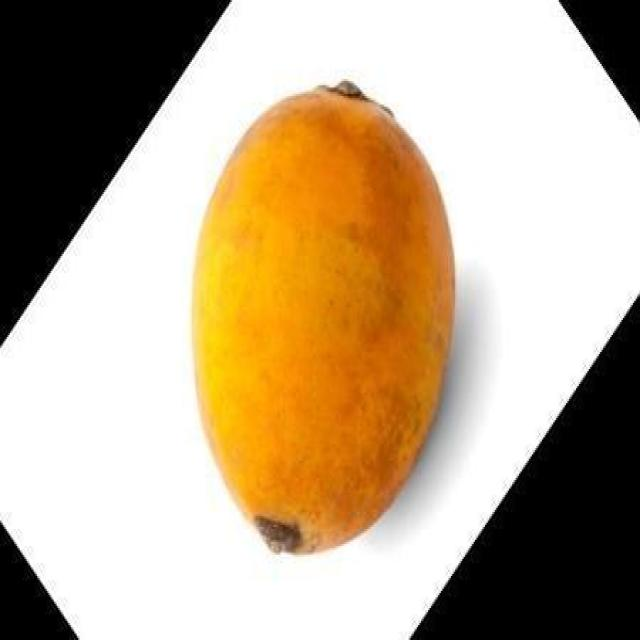good: (189, 83, 457, 557)
